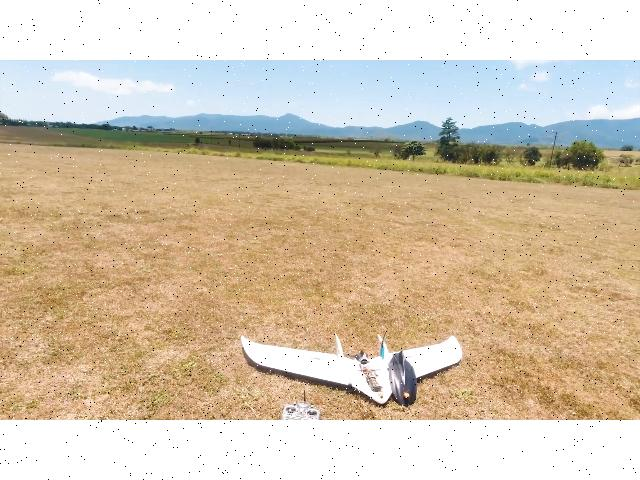Anti-Drone: (213, 316, 511, 409)
